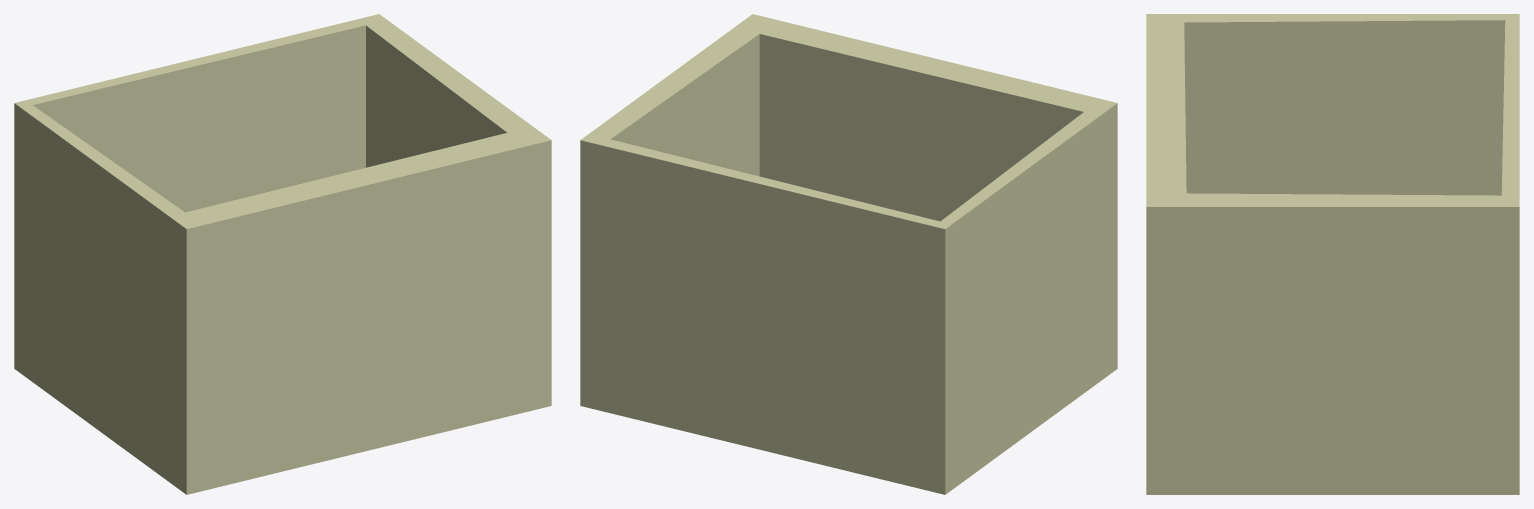
The model's file is escapeTrunkShaft_short.fbx.
3 renders of one model, left to right at view 1: azimuth 30°, elevation 25°; view 2: azimuth 150°, elevation 25°; view 3: azimuth 270°, elevation 25°, orthographic. The views are drawn at different scales.
Parts seen in each view (by area): view 1: escapeTrunkShaft_short; view 2: escapeTrunkShaft_short; view 3: escapeTrunkShaft_short.
Part boxes in pixels (x1,y1,x2,y2): escapeTrunkShaft_short: [14, 14, 551, 494]; escapeTrunkShaft_short: [580, 14, 1117, 494]; escapeTrunkShaft_short: [1146, 14, 1519, 494].
Bounding box in the file's own units: 147 × 103 × 121.
